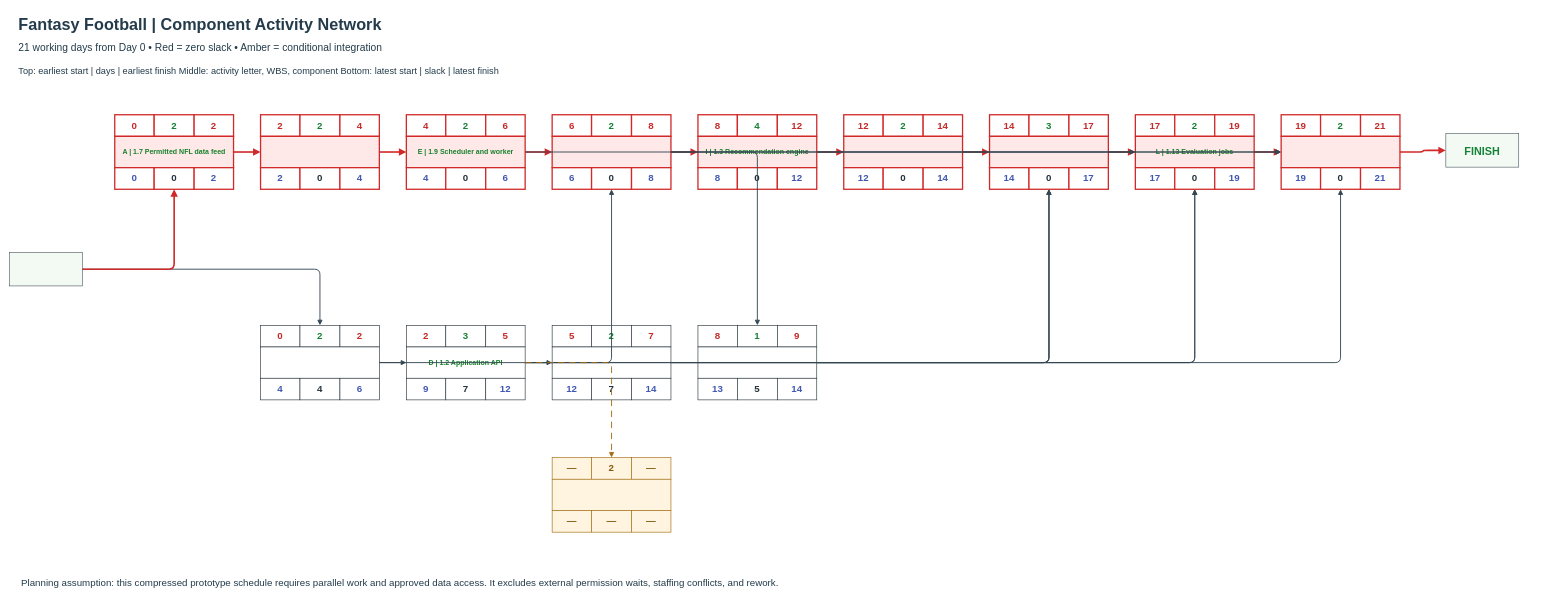
The diagram is 1566 pixels wide and 608 high, and some of its shapes have lost their labels. Each missing label, with the box of its shape:
B | 1.4 Managed PostgreSQL: (260, 346, 379, 378)
C | 1.8 Provider adapters: (260, 135, 380, 168)
F | 1.12 Manual roster fallback: (552, 346, 671, 378)
G | 1.10 Stage and validate: (551, 135, 671, 168)
H | 1.6 Freshness guard: (697, 346, 817, 378)
J | 1.5 Explanation and glossary: (843, 135, 963, 168)
K | 1.1 Web experience: (989, 135, 1109, 168)
M | 1.14 Health and recovery: (1280, 135, 1400, 168)
N | 1.11 Sleeper API candidate (conditional): (552, 479, 671, 511)
START: (9, 252, 82, 286)
